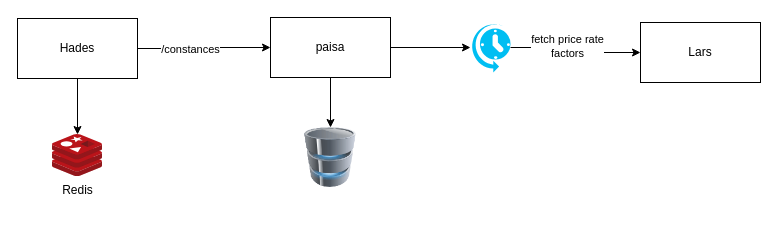
This 778x226 diagram has some shape labels left out. Each missing label, with the centre of its shape:
"cron job" belongs at point 490,47.
"DB" belongs at point 330,157.
